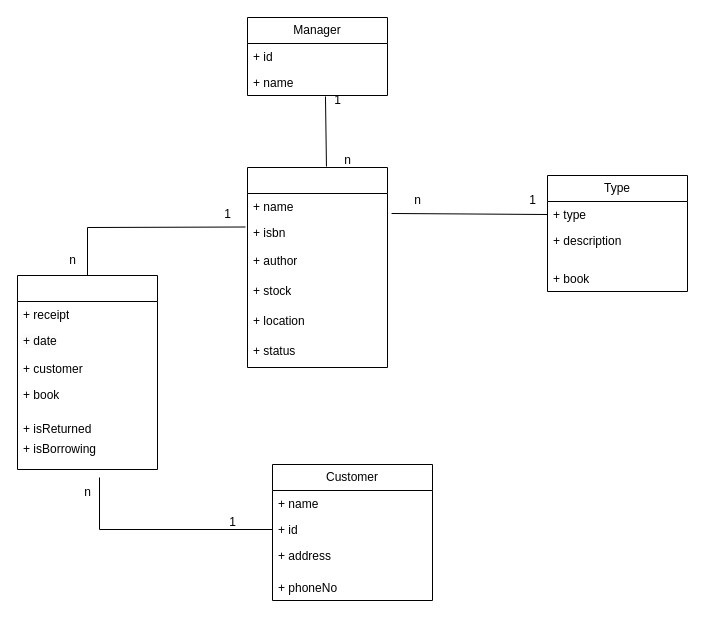
Some shapes in this 705 by 621 pixel diagram are drawn without their labels. Each missing label, with the box of its shape:
Book: (246, 166, 388, 368)
Loan: (16, 274, 158, 470)
